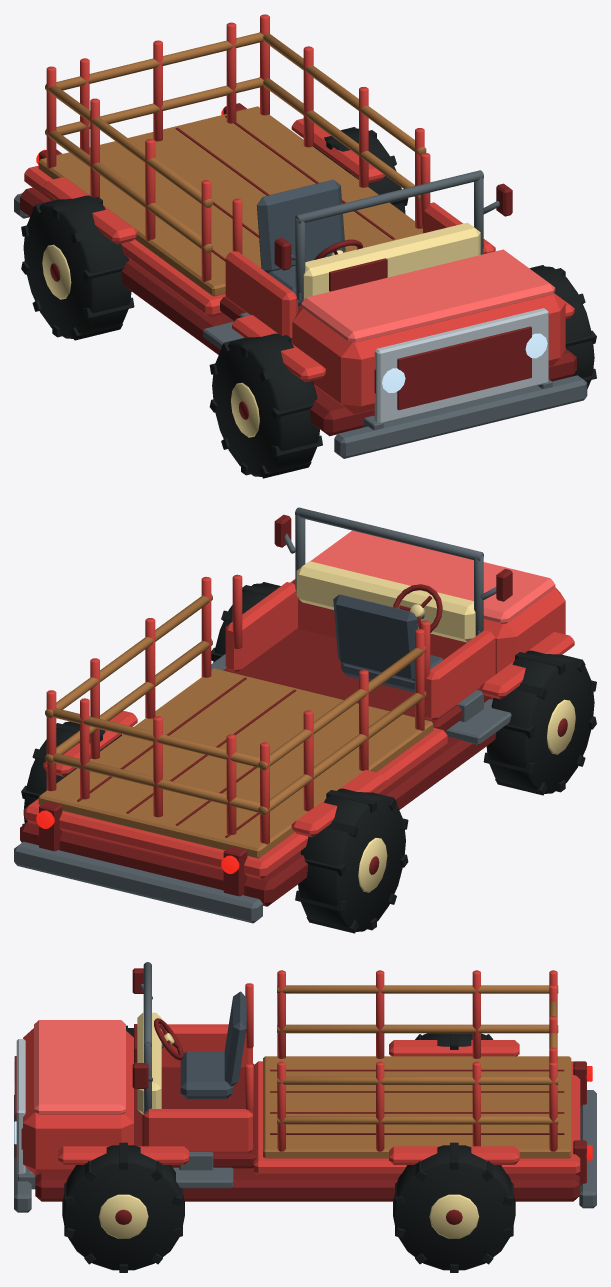
File: FTF_Vehicle_NorthAmericanFarmTruck_Red_Open_7m.glb
3 views of the same model, one above another, from view 1: azimuth 30°, elevation 25°; view 2: azimuth 150°, elevation 25°; view 3: azimuth 270°, elevation 25° (orthographic). The views are drawn at different scales.
Visible parts, largest first — view 1: FTF_Vehicle_NorthAmericanFarmTruck_Red_Open_7m_Static, Wheel_FL_Mesh, Wheel_RL_Mesh, Wheel_FR_Mesh, Wheel_RR_Mesh; view 2: FTF_Vehicle_NorthAmericanFarmTruck_Red_Open_7m_Static, Wheel_RL_Mesh, Wheel_FL_Mesh, Wheel_RR_Mesh, Wheel_FR_Mesh, SteeringWheel_Mesh; view 3: FTF_Vehicle_NorthAmericanFarmTruck_Red_Open_7m_Static, Wheel_RR_Mesh, Wheel_FR_Mesh, Wheel_RL_Mesh, SteeringWheel_Mesh.
Part boxes in pixels (x1,y1,x2,y2): FTF_Vehicle_NorthAmericanFarmTruck_Red_Open_7m_Static: (14,14,587,458); Wheel_FL_Mesh: (209,333,322,478); Wheel_RL_Mesh: (21,195,134,340); Wheel_FR_Mesh: (529,265,596,388); Wheel_RR_Mesh: (313,127,408,213); FTF_Vehicle_NorthAmericanFarmTruck_Red_Open_7m_Static: (14,507,574,923); Wheel_RL_Mesh: (295,788,408,933); Wheel_FL_Mesh: (483,650,596,795); Wheel_RR_Mesh: (21,721,122,825); Wheel_FR_Mesh: (211,582,280,662); SteeringWheel_Mesh: (393,584,442,632); FTF_Vehicle_NorthAmericanFarmTruck_Red_Open_7m_Static: (14,962,596,1212); Wheel_RR_Mesh: (393,1142,515,1272); Wheel_FR_Mesh: (62,1142,184,1272); Wheel_RL_Mesh: (415,1033,493,1049); SteeringWheel_Mesh: (154,1018,183,1060).
Bounding box in the file's own units: 4.02 × 2.78 × 7.23.
